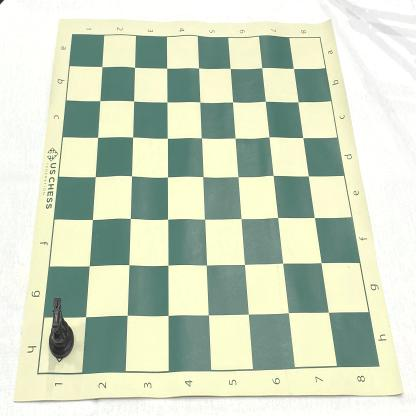black-knight: (48, 298, 74, 360)
